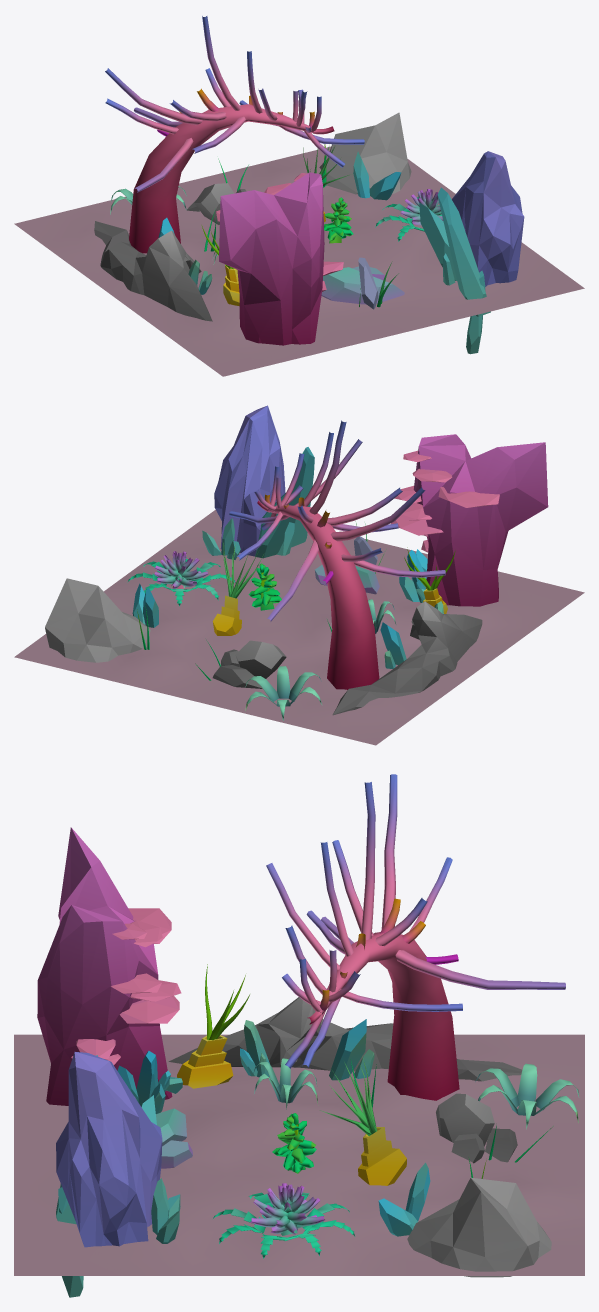
The model's file is Underwater_Example.gltf.
The picture shows the model from 3 angles, top to bottom: view 1: azimuth 30°, elevation 25°; view 2: azimuth 150°, elevation 25°; view 3: azimuth 270°, elevation 25°; orthographic projection. The views are drawn at different scales.
Parts seen in each view (by area): view 1: Plane; view 2: Plane; view 3: Plane.
Part boxes in pixels (bbox=[...]): Plane: bbox=[14, 16, 584, 376]; Plane: bbox=[14, 405, 584, 745]; Plane: bbox=[14, 774, 584, 1297].
Size of the model in its own units: 20 by 15.73 by 20.
1 material, 1 textured.
